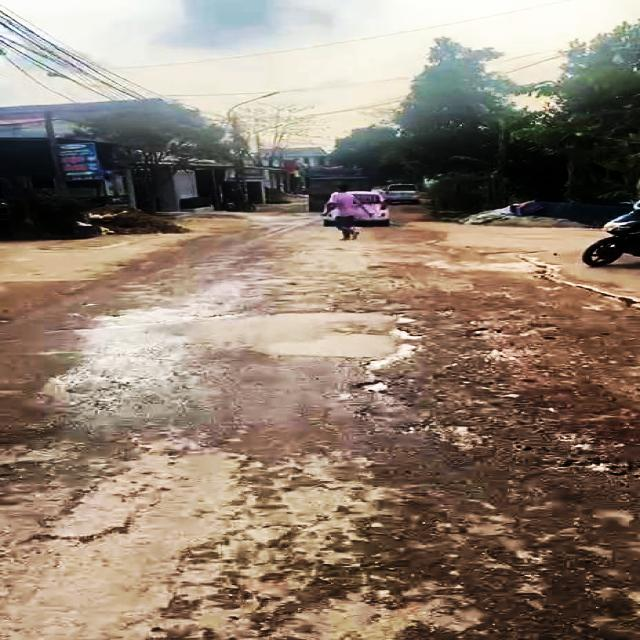pothole: (353, 315, 426, 403), (545, 422, 640, 483), (463, 320, 560, 344)
